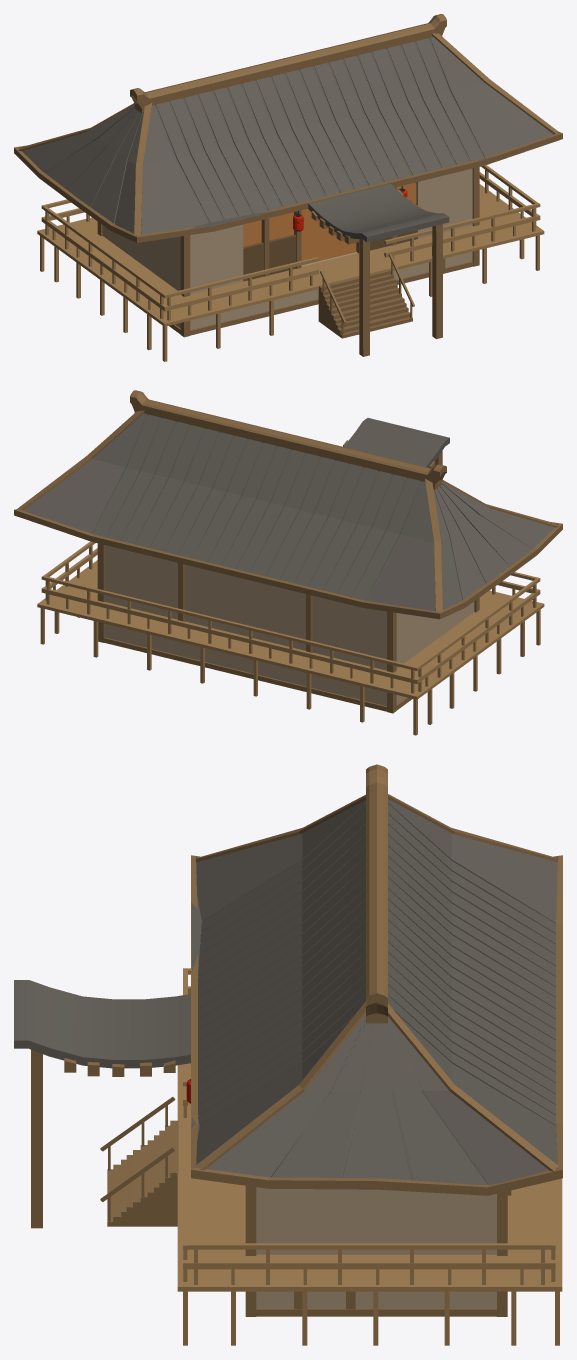
File: Restaurant_2.fbx
3 renders of one model, top to bottom at view 1: azimuth 30°, elevation 25°; view 2: azimuth 150°, elevation 25°; view 3: azimuth 270°, elevation 25°, orthographic. The views are drawn at different scales.
Parts seen in each view (by area): view 1: Restaurant_2; view 2: Restaurant_2; view 3: Restaurant_2.
Part boxes in pixels (<box>): Restaurant_2: <box>14,14,562,361</box>; Restaurant_2: <box>14,390,562,735</box>; Restaurant_2: <box>14,764,562,1345</box>.
Size of the model in its own units: 1075 by 524 by 793.
